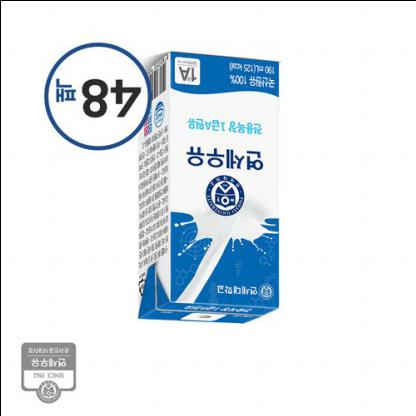tetra: (124, 35, 294, 342)
